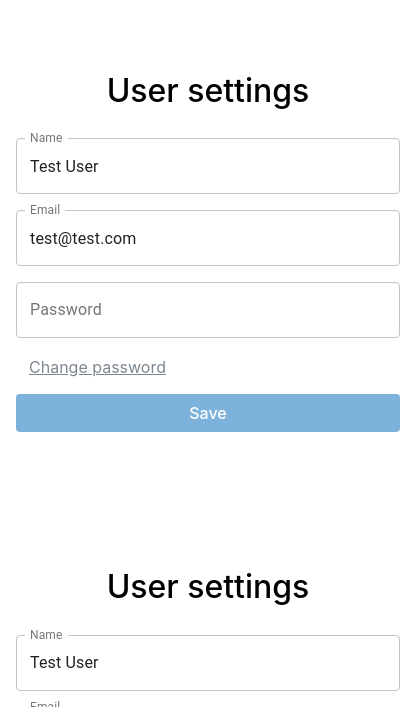
Test: <Settings /> › Name field › Should enable submit button when name field differs from original value
This screenshot has width=417, height=707.
Replace the text in the field with id "name" with "different" at point(208, 663), box left=16, top=635, right=400, bottom=691
(page scrolled)
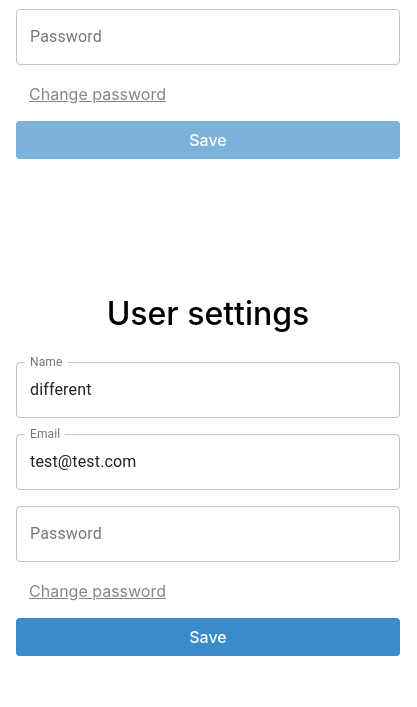
Now the submit button is enabled, box left=16, top=618, right=400, bottom=656
